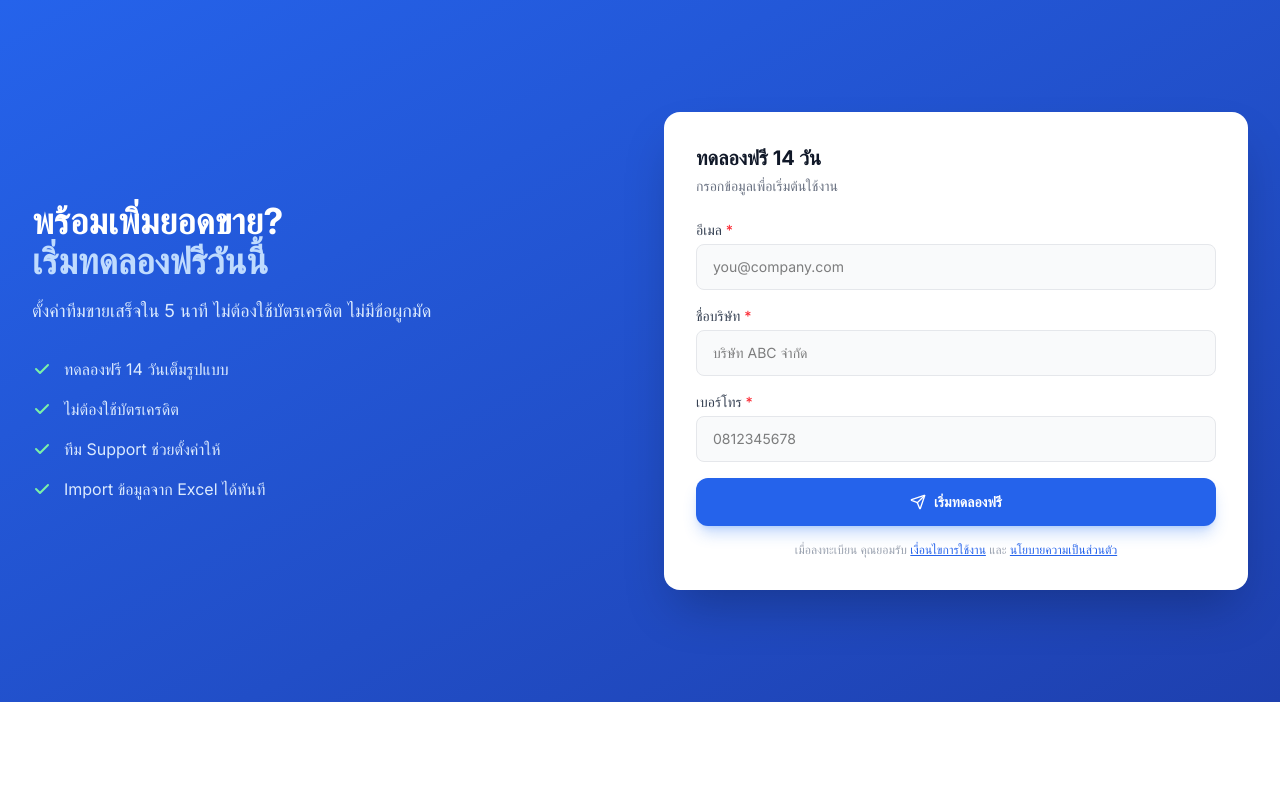
Test: LeadCapture › shows validation errors on empty submit
Click the button "เริ่มทดลองฟรี": x=956, y=502 [696, 478, 1216, 526]
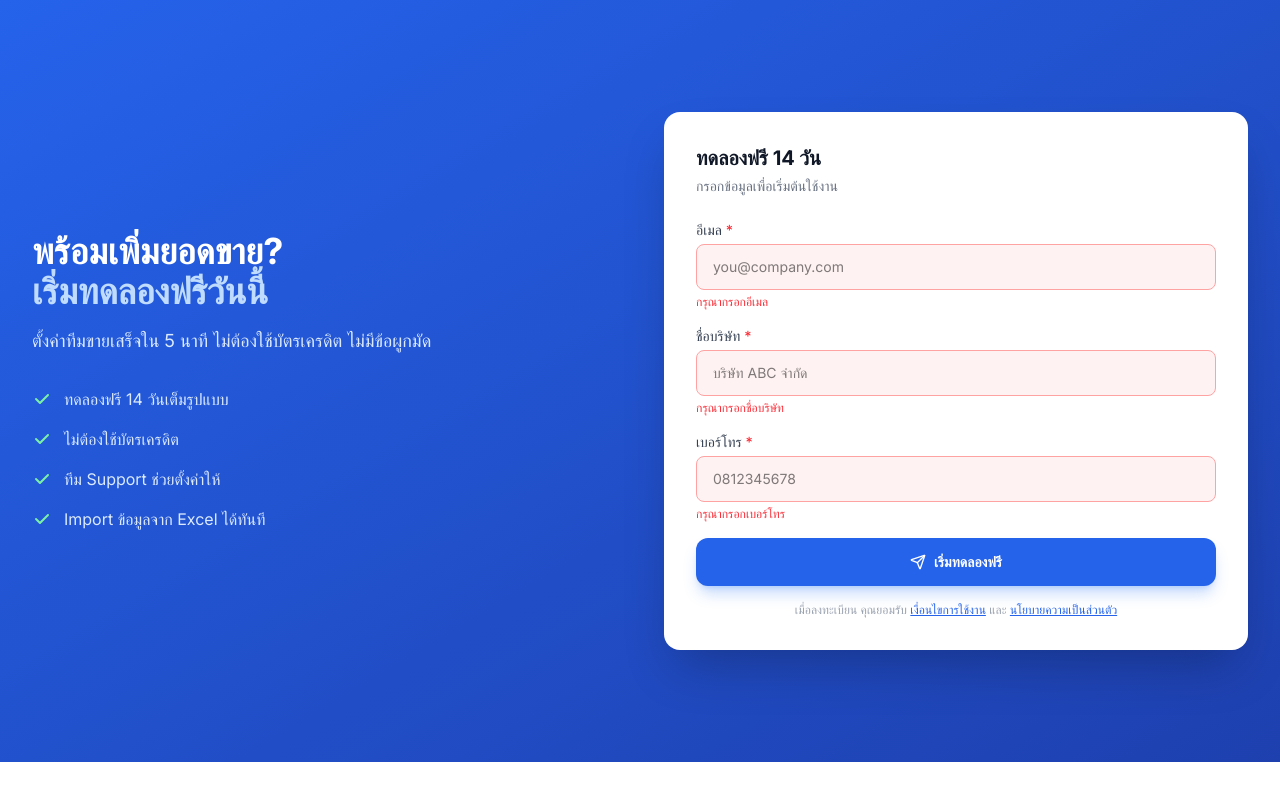
Result: the text "กรุณากรอกอีเมล" is shown at [696, 294, 768, 309]
Result: the text "กรุณากรอกชื่อบริษัท" is shown at [696, 400, 784, 415]
Result: the text "กรุณากรอกเบอร์โทร" is shown at [696, 506, 785, 521]
